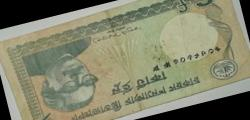2 taka: (4, 1, 236, 117)
